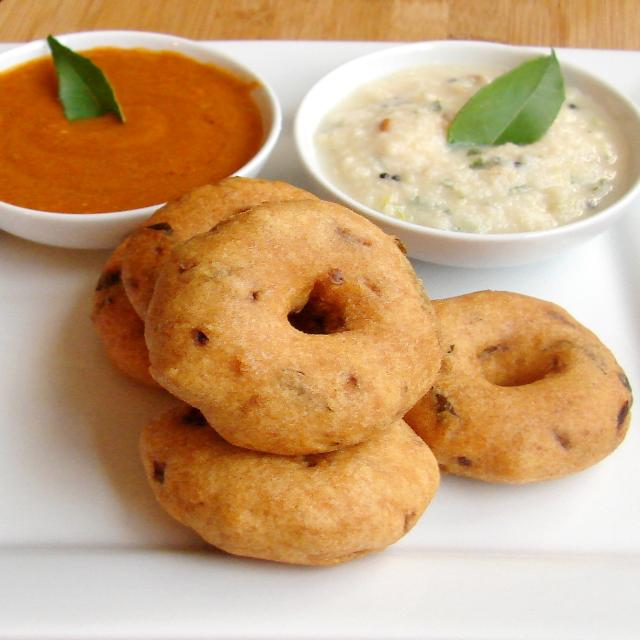RED CHUTNEY: (0, 41, 271, 211)
VADA: (77, 175, 638, 572)
WHITE CHUTNEY: (318, 58, 633, 230)
